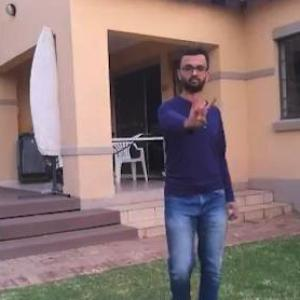takeoff-hand: (184, 87, 219, 134)
